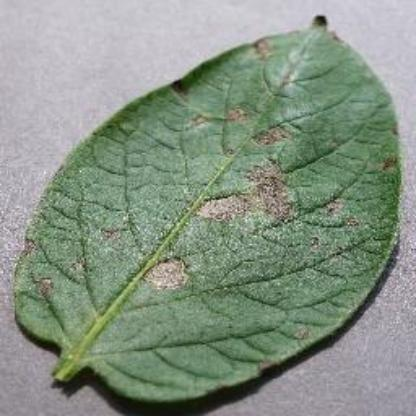Early-Blight: (15, 10, 415, 416)
